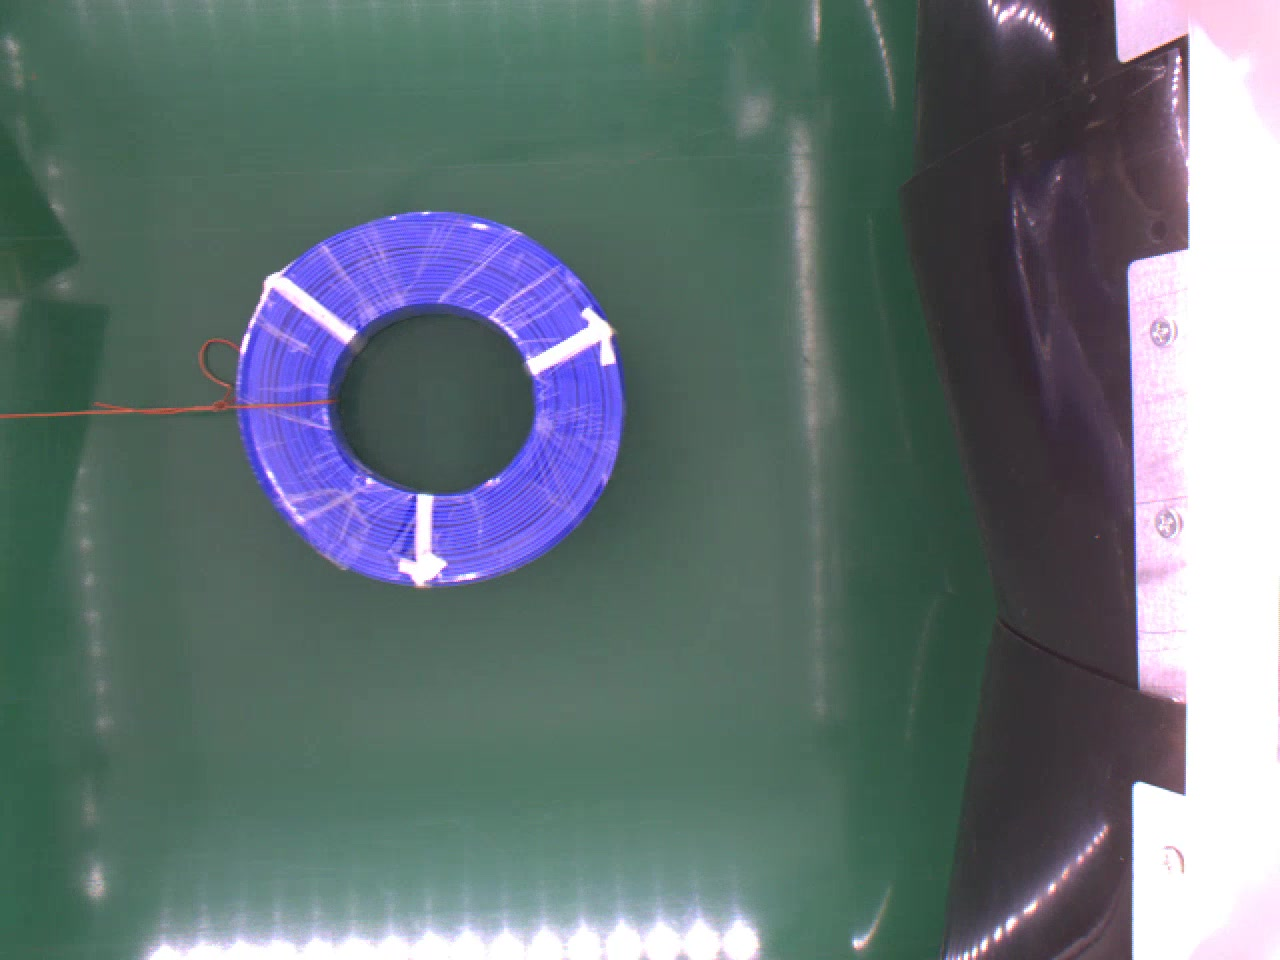blue: (235, 207, 626, 585)
